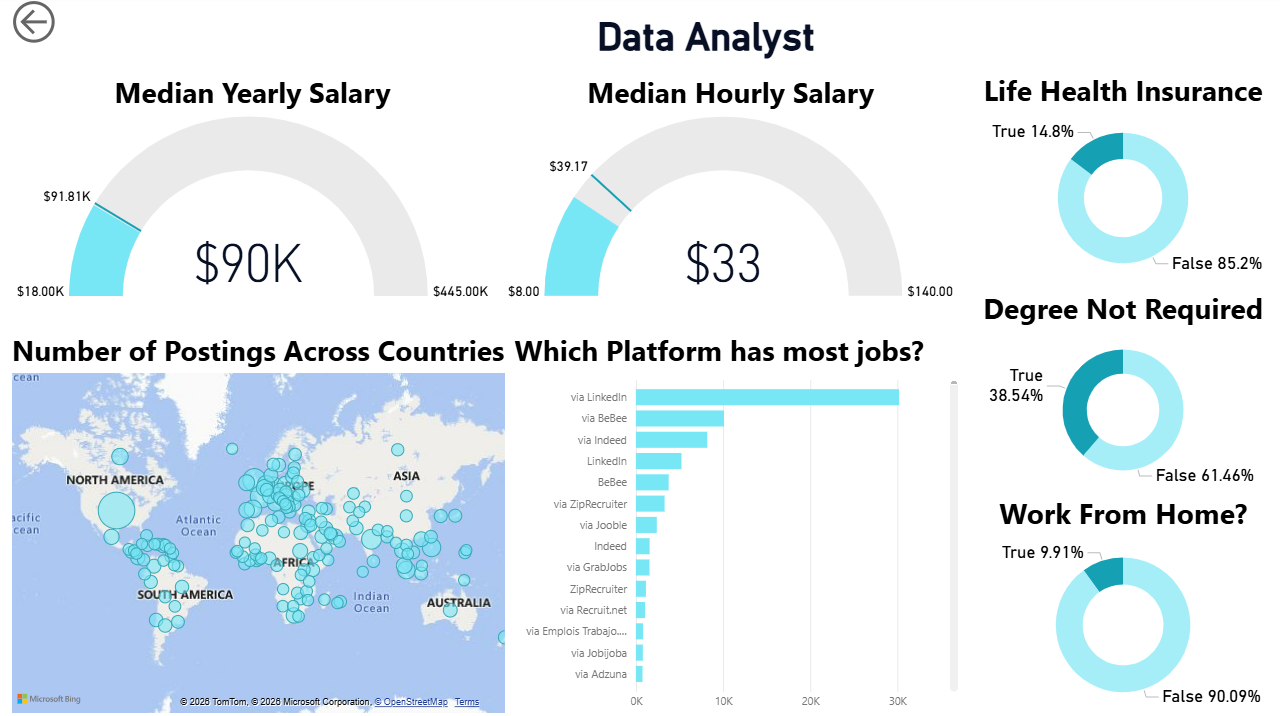

This screenshot's page, from the dashboard's own definition file:
{"tool":"powerbi","page":{"name":"Drill Through Job Title","canvas":[1280,720],"ordinal":1},"visuals":[{"type":"card","fields":{"Values":["Min(job_postings_flat.job_title_short)"]},"box":[548.6,0,314.7,74.6],"z":0},{"type":"actionButton","box":[0,0,63.4,53.5],"z":1000},{"type":"gauge","title":"Median Yearly Salary","fields":{"Y":["Median(job_postings_flat.salary_year_avg)"],"MinValue":["Min(job_postings_flat.salary_year_avg)"],"MaxValue":["Max(job_postings_flat.salary_year_avg)"],"TargetValue":["Avg(job_postings_flat.salary_year_avg)1"]},"box":[0,77.1,498.8,233.9],"z":3000},{"type":"gauge","title":"Median Hourly Salary","fields":{"Y":["Median(job_postings_flat.salary_hour_avg)"],"MinValue":["Min(job_postings_flat.salary_hour_avg)1"],"MaxValue":["Max(job_postings_flat.salary_hour_avg)2"],"TargetValue":["Avg(job_postings_flat.salary_hour_avg)3"]},"box":[498.8,77.1,462.8,233.9],"z":4000},{"type":"donutChart","title":"Life Health Insurance","fields":{"Category":["job_postings_flat.job_health_insurance"],"Y":["CountNonNull(job_postings_flat.job_health_insurance)"]},"box":[961.6,74.6,318.5,217.7],"z":5000},{"type":"map","title":"Number of Postings Across Countries","fields":{"Category":["job_postings_flat.job_country"],"Size":["CountNonNull(job_postings_flat.job_country)"]},"box":[0,333.4,510,386.9],"z":6000},{"type":"clusteredBarChart","title":"Which Platform has most jobs?","fields":{"Category":["job_postings_flat.job_via"],"Y":["CountNonNull(job_postings_flat.job_via)"]},"box":[510,333.4,451.6,386.9],"z":7000},{"type":"donutChart","title":"Degree Not Required","fields":{"Category":["job_postings_flat.job_no_degree_mention"],"Y":["CountNonNull(job_postings_flat.job_no_degree_mention)"]},"box":[961.6,292.3,318.5,204],"z":8000},{"type":"donutChart","title":"Work From Home?","fields":{"Category":["job_postings_flat.job_work_from_home"],"Y":["CountNonNull(job_postings_flat.job_work_from_home)"]},"box":[961.6,496.3,318.5,223.9],"z":9000}]}

Visuals, with their boxes in screenshot pixels (x1, y1, x2, y2), scaled from the page's 1280x720 canvas onto the 1280x716 screenshot:
card - Min(job_postings_flat.job_title_short): left=549, top=0, right=863, bottom=74
actionButton: left=0, top=0, right=63, bottom=53
"Median Yearly Salary" gauge: left=0, top=77, right=499, bottom=309
"Median Hourly Salary" gauge: left=499, top=77, right=962, bottom=309
"Life Health Insurance" donutChart: left=962, top=74, right=1279, bottom=291
"Number of Postings Across Countries" map: left=0, top=332, right=510, bottom=715
"Which Platform has most jobs?" clusteredBarChart: left=510, top=332, right=962, bottom=715
"Degree Not Required" donutChart: left=962, top=291, right=1279, bottom=494
"Work From Home?" donutChart: left=962, top=494, right=1279, bottom=715
